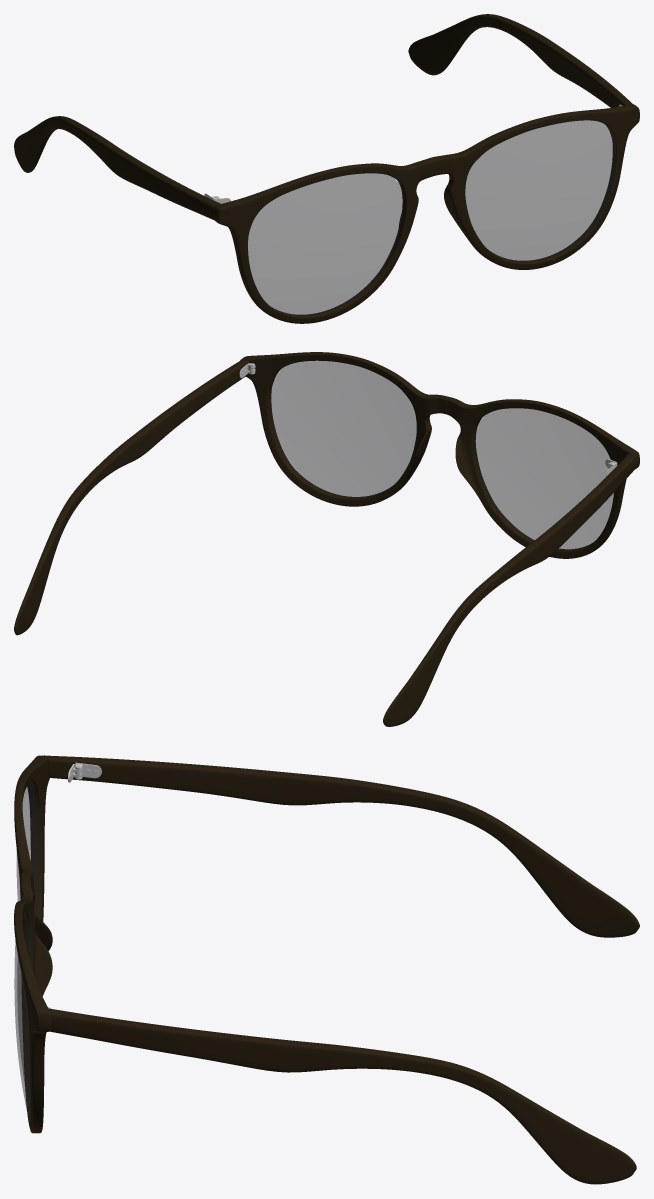
Rendered from black.glb.
3 renders of one model, top to bottom at view 1: azimuth 30°, elevation 25°; view 2: azimuth 150°, elevation 25°; view 3: azimuth 270°, elevation 25°, orthographic. The views are drawn at different scales.
Visible parts, largest first — view 1: Sphere002, Sphere001, Line001, Line002, Line003; view 2: Sphere001, Sphere002, Line001, Line003, Line002; view 3: Line002, Line003, Line001, Sphere001, Sphere002.
Boxes of the visible parts, <box> form: Sphere002: <box>248,173,403,315</box>; Sphere001: <box>465,119,618,261</box>; Line001: <box>213,104,639,323</box>; Line002: <box>408,14,632,107</box>; Line003: <box>14,116,220,220</box>; Sphere001: <box>271,360,417,497</box>; Sphere002: <box>473,408,613,550</box>; Line001: <box>240,352,639,558</box>; Line003: <box>383,454,635,726</box>; Line002: <box>14,360,249,635</box>; Line002: <box>49,1008,636,1184</box>; Line003: <box>48,756,639,937</box>; Line001: <box>14,755,52,1133</box>; Sphere001: <box>14,912,34,1121</box>; Sphere002: <box>16,782,39,916</box>.
Size of the model in its own units: 0.1555 by 0.0513 by 0.15.
